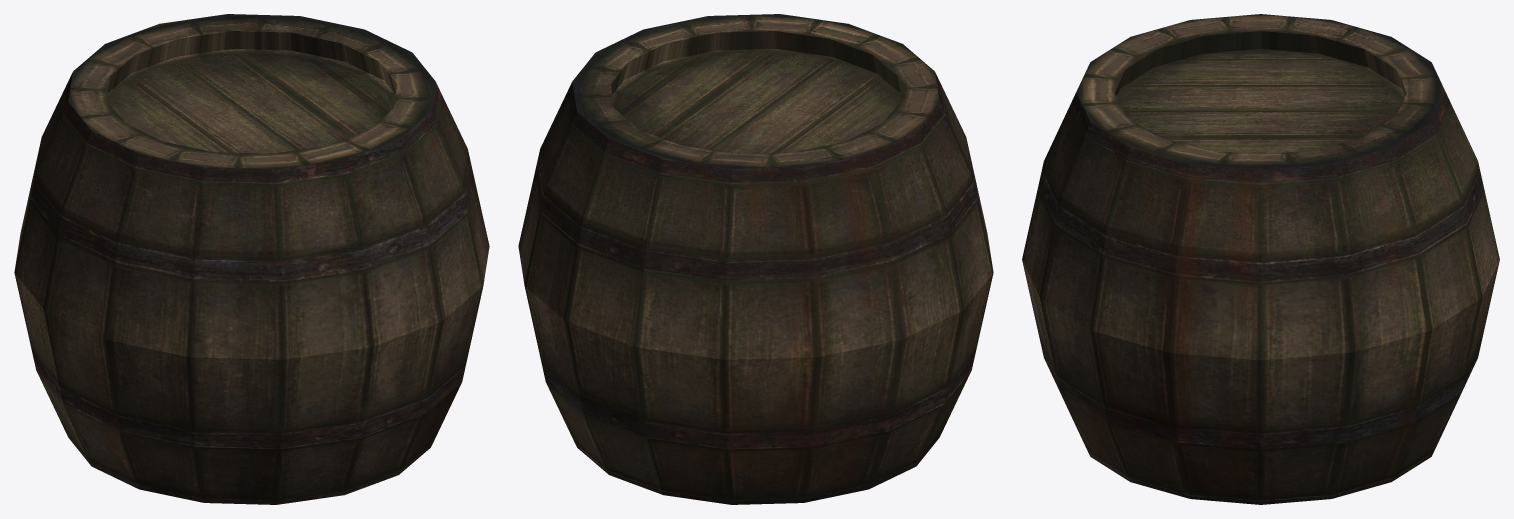
File: barril_v2.fbx
The picture shows the model from 3 angles, left to right: view 1: azimuth 30°, elevation 25°; view 2: azimuth 150°, elevation 25°; view 3: azimuth 270°, elevation 25°; orthographic projection.
Parts seen in each view (by area): view 1: Barril; view 2: Barril; view 3: Barril.
Part boxes in pixels (left/top/right/bottom): Barril: left=14, top=14, right=489, bottom=504; Barril: left=518, top=14, right=993, bottom=504; Barril: left=1022, top=14, right=1499, bottom=504.
Size of the model in its own units: 265 by 205 by 265.
Materials: 1 (1 with a texture image).
